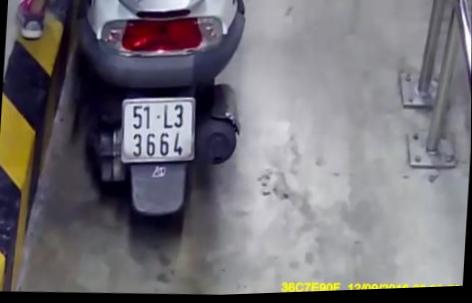LP: (117, 96, 200, 169)
